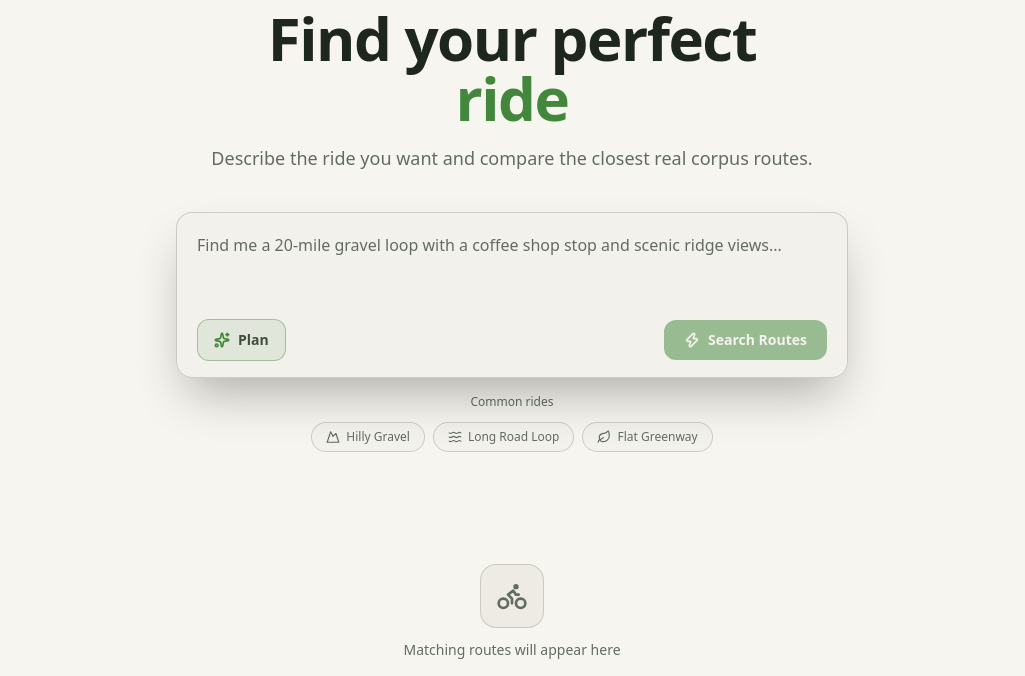
Test: GeneratePage › shows an error state when search fails
Replace the text in the text box with "quiet loop": (512,265) [181,217,843,313]
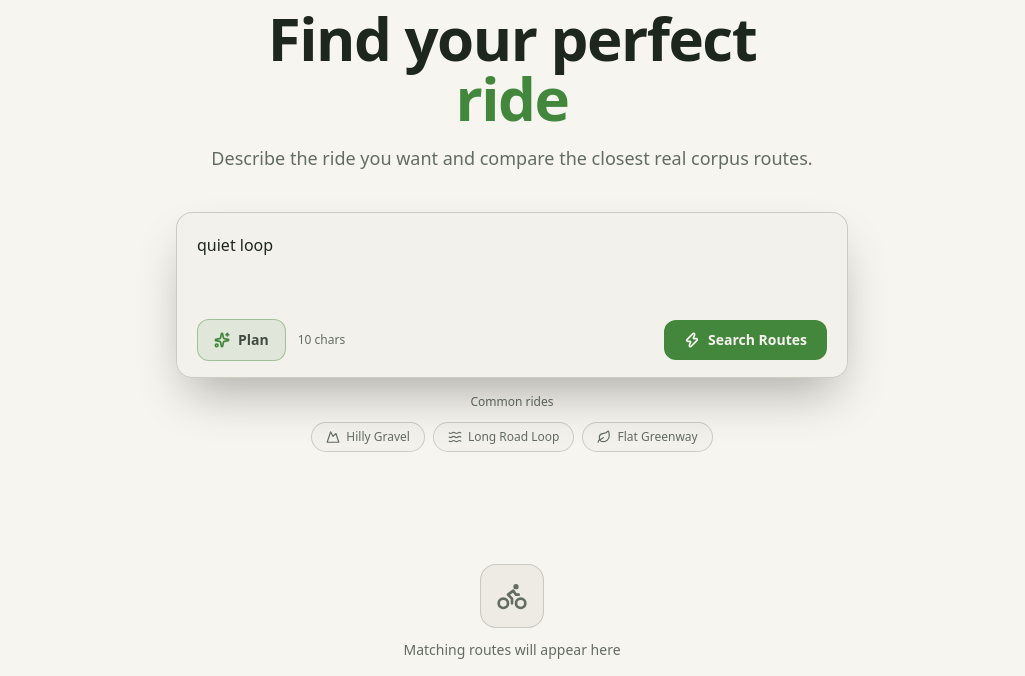
Click the button "Search Routes": (746,340) [664,320,827,360]
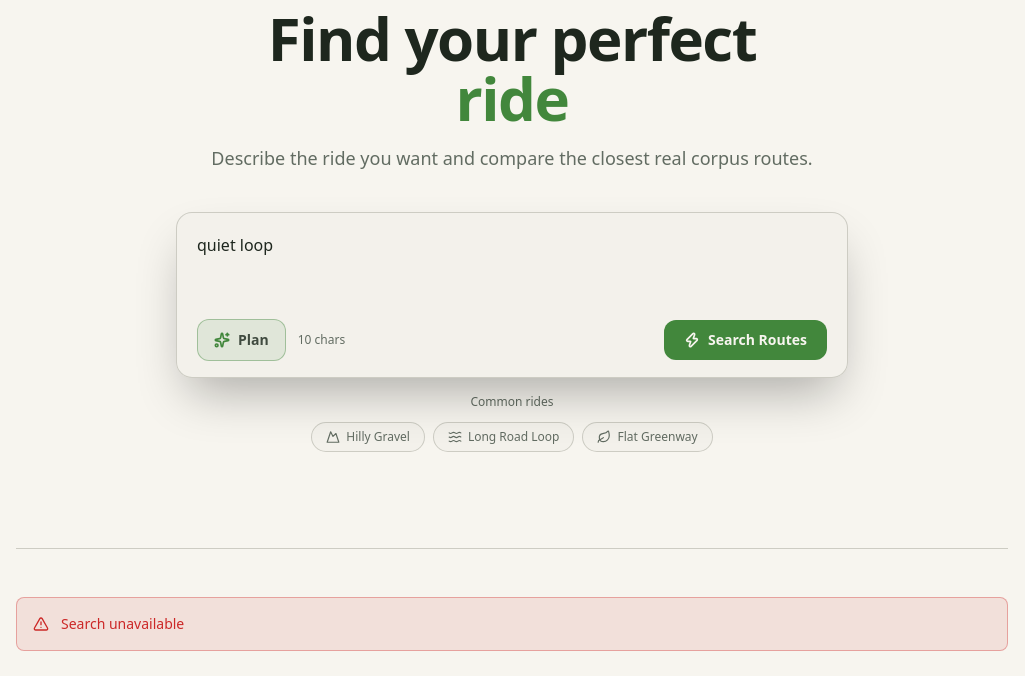
expect the text "Search unavailable" is shown: met, box [61,614,184,634]
